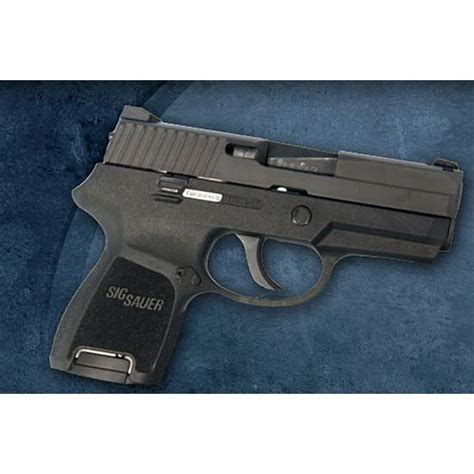gun: (47, 104, 464, 387)
